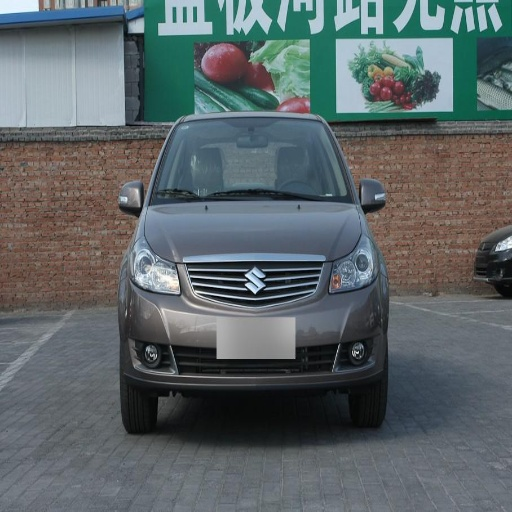front_bumper: (122, 260, 386, 392)
front_right_light: (128, 241, 180, 294)
hood: (144, 200, 360, 263)
